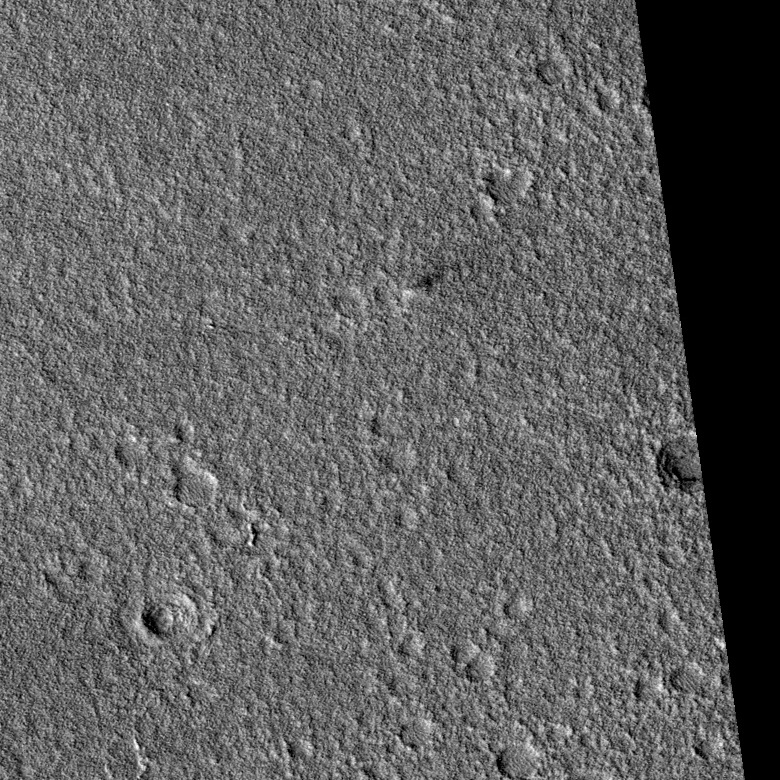dust_devil: (397, 265, 444, 299)
